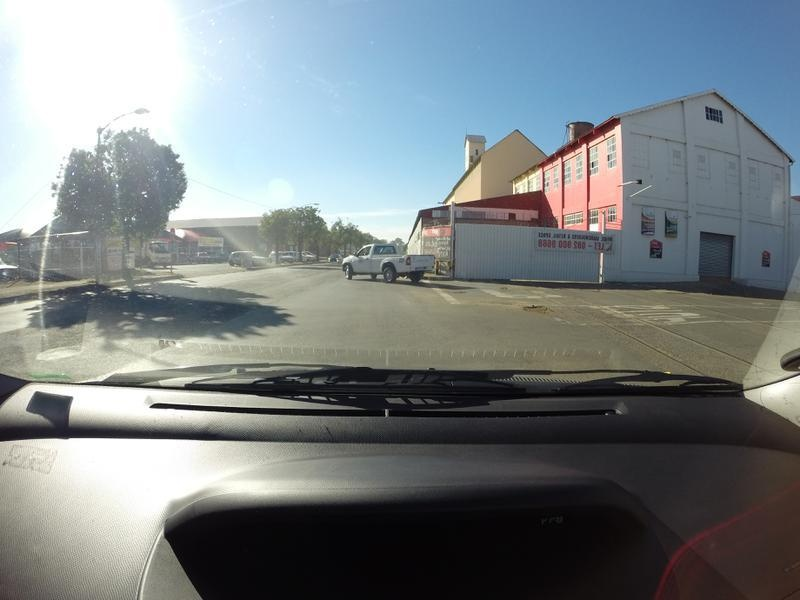pothole: (512, 297, 554, 323)
